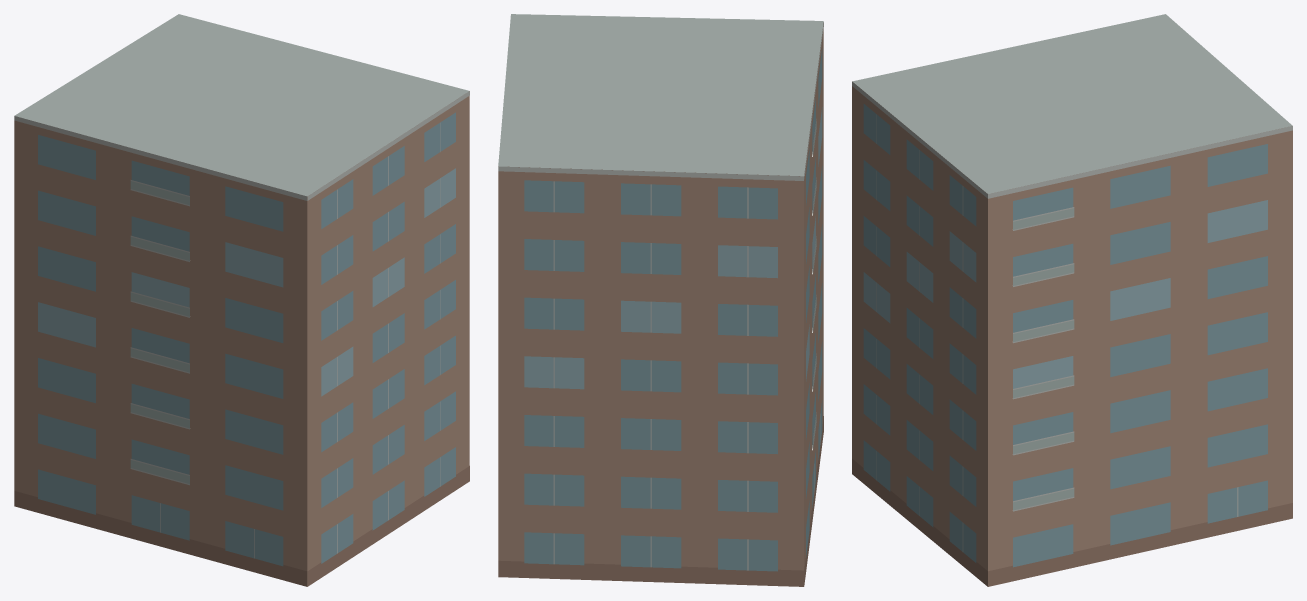
Rendered from survey-upis-32746013.glb.
3 views of the same model, side by side, from view 1: azimuth 30°, elevation 25°; view 2: azimuth 150°, elevation 25°; view 3: azimuth 270°, elevation 25° (orthographic). The views are drawn at different scales.
Parts seen in each view (by area): view 1: survey-upis-32746013.tmp; view 2: survey-upis-32746013.tmp; view 3: survey-upis-32746013.tmp.
Part boxes in pixels (x1=…): survey-upis-32746013.tmp: x1=14, y1=14, x2=469, y2=586; survey-upis-32746013.tmp: x1=498, y1=14, x2=823, y2=586; survey-upis-32746013.tmp: x1=852, y1=14, x2=1292, y2=586.
Bounding box in the file's own units: 20.28 × 20.6 × 20.96.
